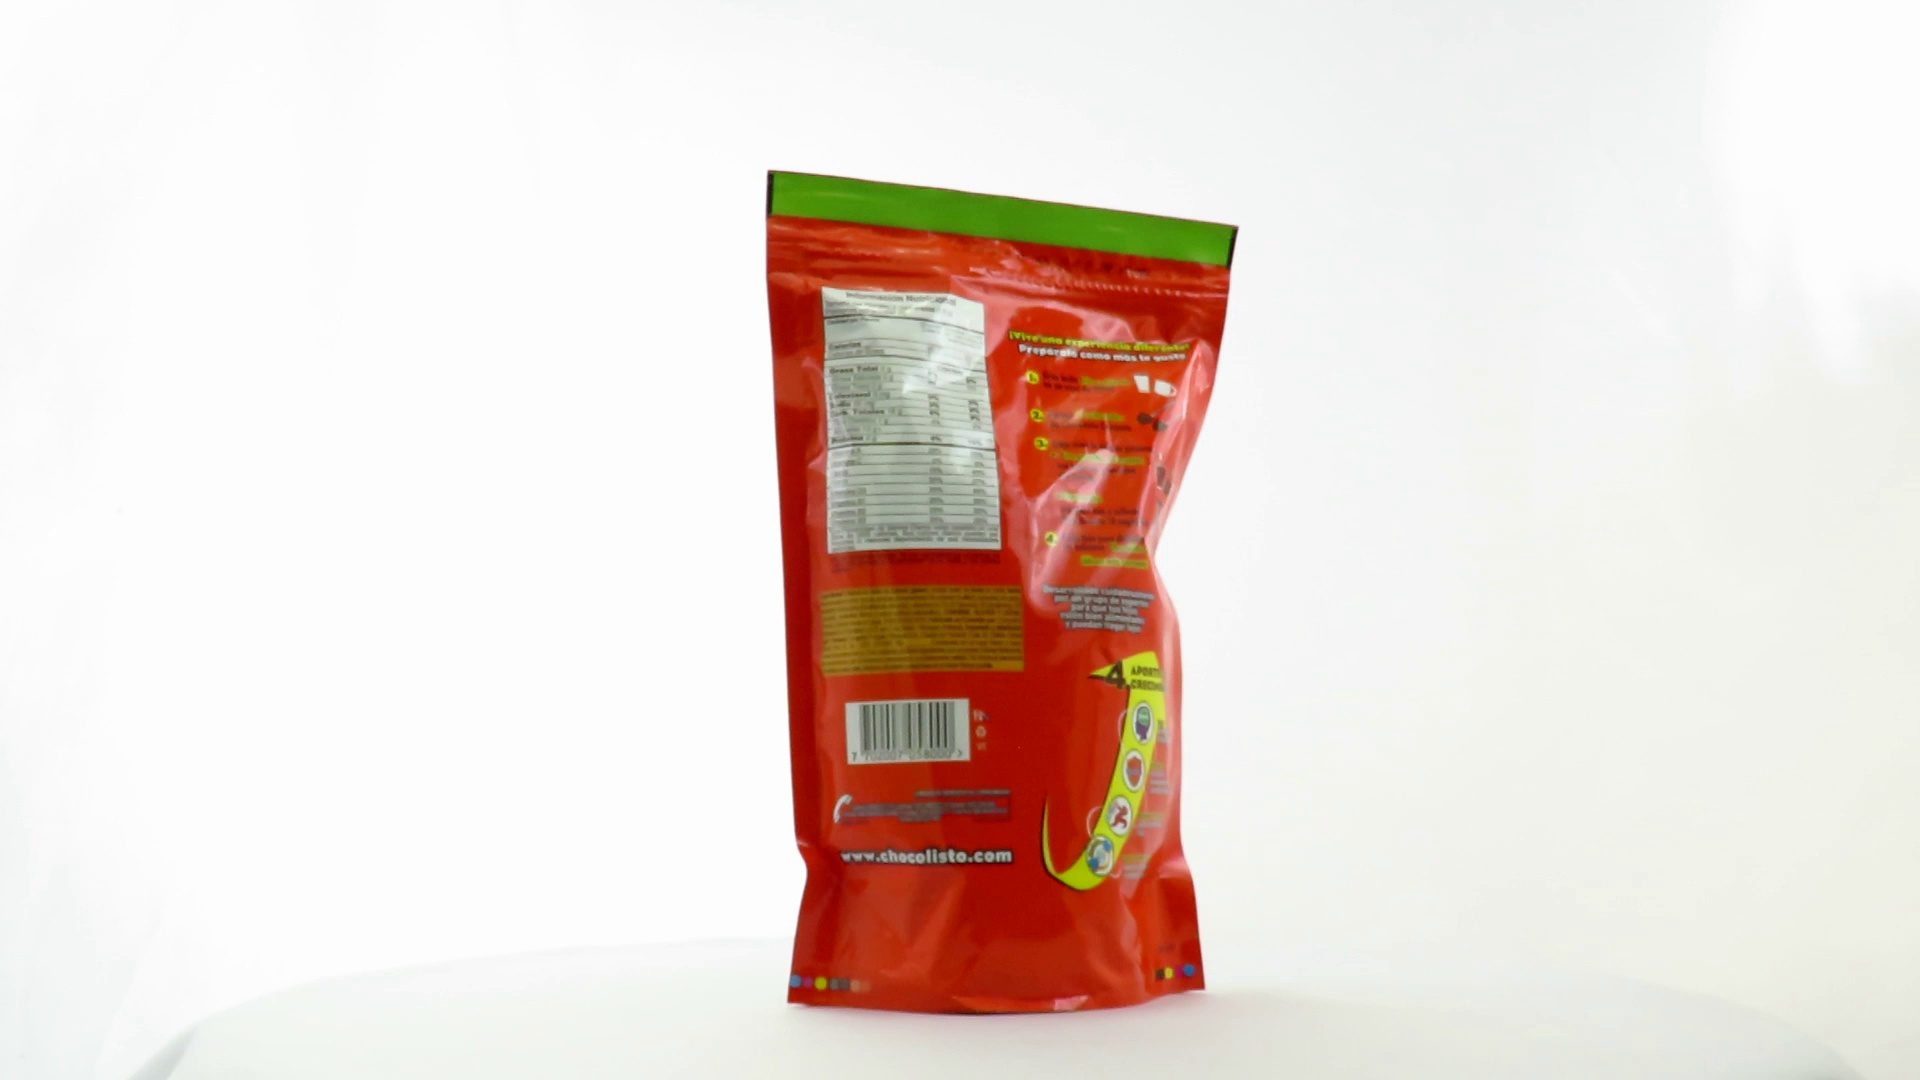COL0170102DYP50000: (760, 165, 1245, 1022)
